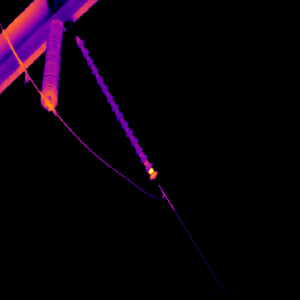insulator: (74, 33, 157, 181), (38, 18, 63, 109)
